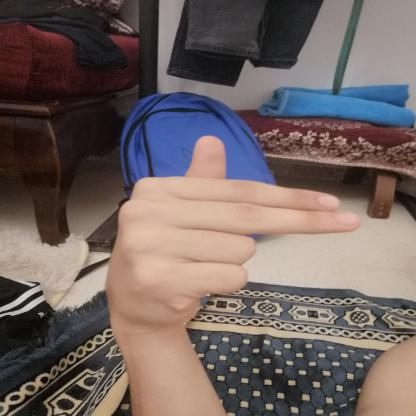GHAYN: (86, 128, 377, 339)
